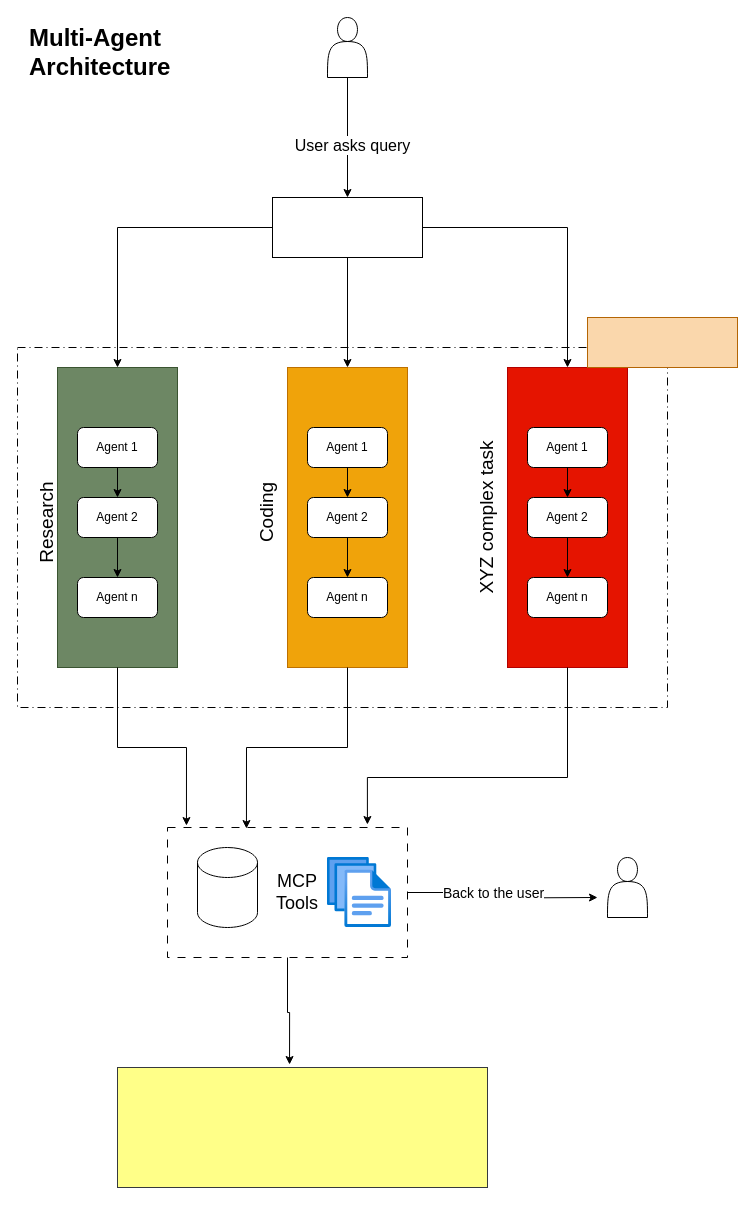
The diagram is 755 pixels wide and 1205 high, and some of its shapes have lost their labels. The centre of each missing label's shape, as x and y in pixels:
"Evaluation of the response" goes at point (302, 1127).
"Semantic Caching before calling the agents" goes at point (662, 342).
"Semantic Router (Powerful LLM)" goes at point (347, 227).
